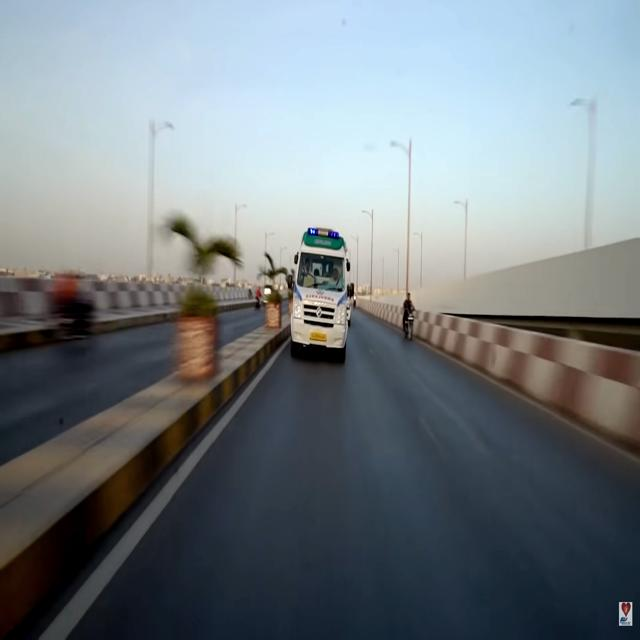emergency-vehicles: (280, 205, 368, 381)
